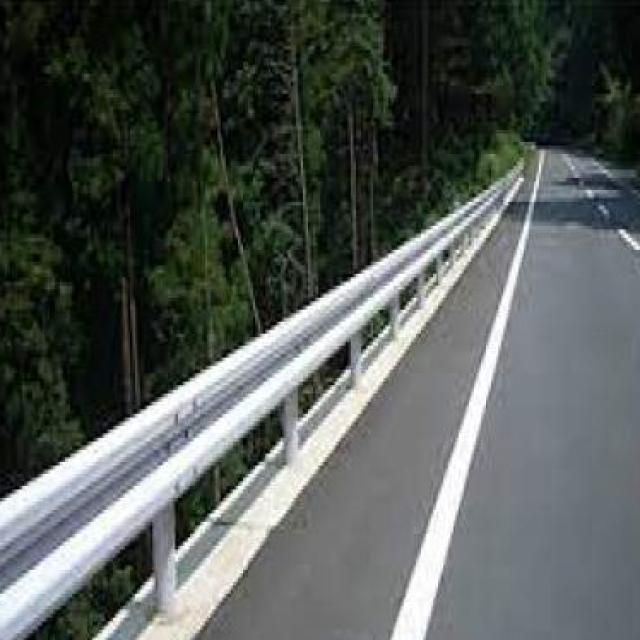Guard rail: (0, 155, 522, 640)
